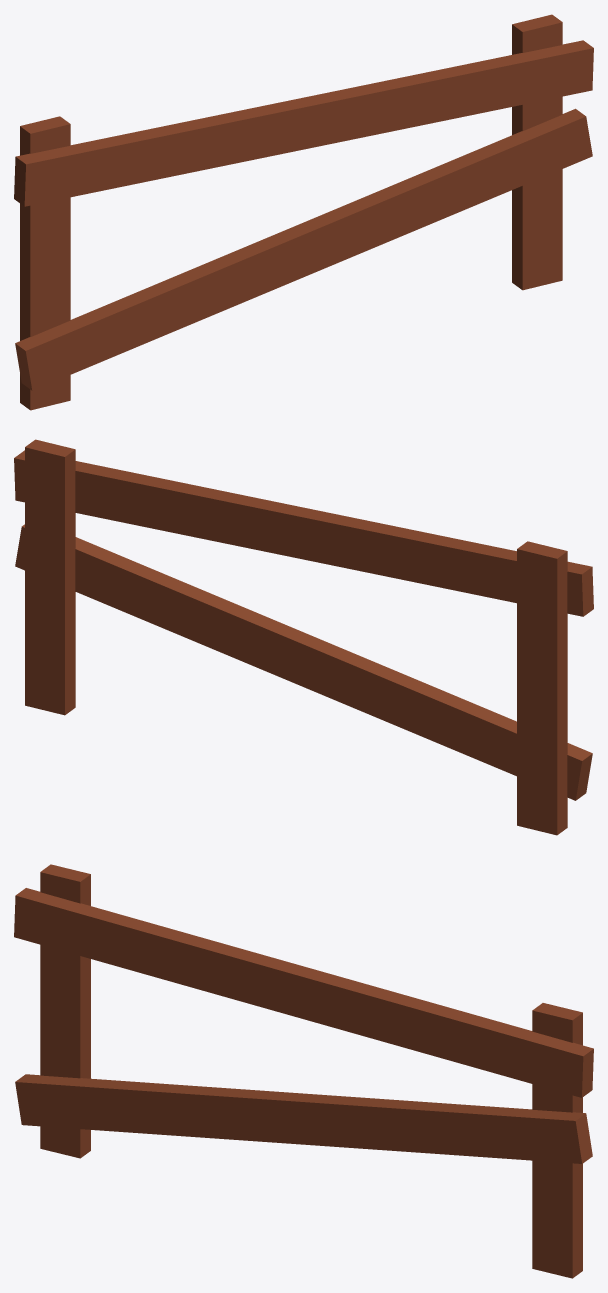
Rendered from SM_Fence_01.fbx.
The picture shows the model from 3 angles, top to bottom: view 1: azimuth 30°, elevation 25°; view 2: azimuth 150°, elevation 25°; view 3: azimuth 330°, elevation 25°; orthographic projection.
Visible parts, largest first — view 1: SM_Fence_01; view 2: SM_Fence_01; view 3: SM_Fence_01.
Boxes of the visible parts, x1,y1,x2,y2 form: SM_Fence_01: (14, 14, 593, 410); SM_Fence_01: (14, 439, 593, 835); SM_Fence_01: (14, 864, 593, 1278).
Size of the model in its own units: 157 by 72.9 by 9.93.
